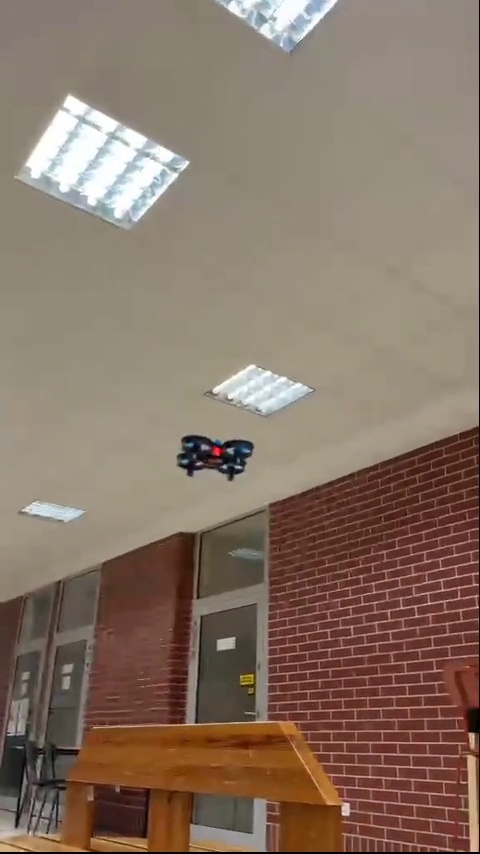drone: (169, 431, 258, 485)
